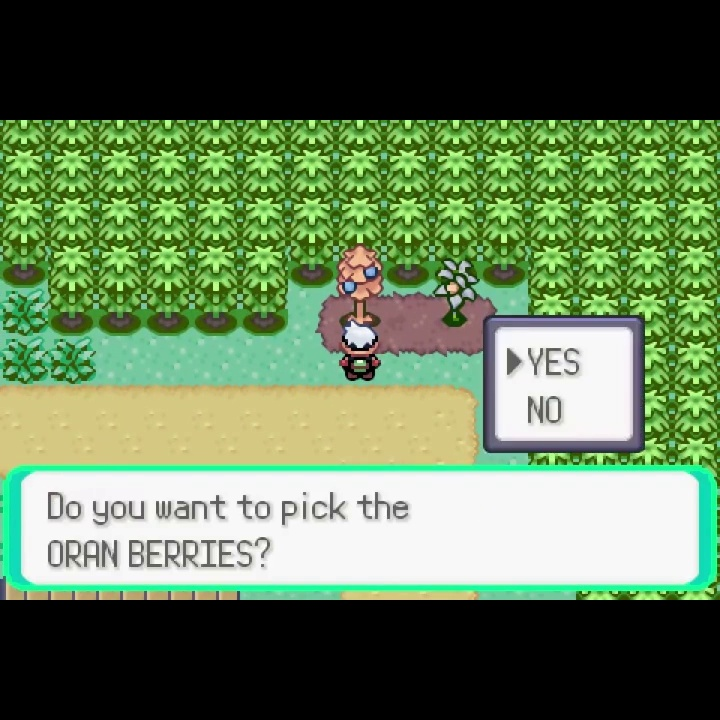grass: (1, 335, 49, 385), (49, 336, 98, 384), (1, 286, 48, 336)
npc: (335, 319, 384, 384)
wall: (144, 244, 194, 337), (288, 196, 336, 290), (193, 242, 240, 336), (96, 245, 144, 337), (241, 244, 289, 335), (385, 198, 433, 289), (50, 244, 97, 336), (481, 198, 528, 289), (1, 197, 47, 289), (434, 198, 480, 260), (287, 148, 337, 197), (385, 148, 434, 198), (672, 148, 720, 199), (95, 195, 144, 244), (624, 196, 673, 245), (335, 148, 385, 196), (624, 244, 672, 294), (239, 195, 288, 243), (433, 149, 481, 198), (672, 293, 720, 342), (673, 244, 720, 294), (672, 196, 720, 244), (672, 343, 720, 391), (672, 390, 720, 438), (145, 195, 192, 244), (480, 148, 527, 197), (576, 196, 623, 245), (625, 148, 672, 197), (577, 148, 623, 198), (528, 244, 576, 291), (576, 244, 623, 292), (49, 196, 95, 245), (337, 197, 383, 246), (530, 149, 576, 198), (626, 292, 672, 341), (1, 148, 46, 198), (97, 148, 144, 195), (145, 148, 192, 195), (530, 196, 575, 245), (48, 148, 95, 194), (194, 148, 240, 195), (193, 196, 240, 241), (241, 149, 287, 194), (287, 120, 336, 150), (672, 120, 720, 150), (577, 119, 626, 148), (433, 120, 480, 150), (384, 120, 432, 149), (481, 120, 529, 149), (531, 120, 577, 150), (145, 120, 192, 149), (193, 120, 240, 149), (336, 120, 383, 149), (626, 119, 671, 149), (96, 120, 144, 148), (47, 121, 96, 148), (240, 120, 287, 148), (1, 119, 46, 148), (672, 440, 720, 465), (527, 292, 575, 315), (577, 292, 623, 315)
